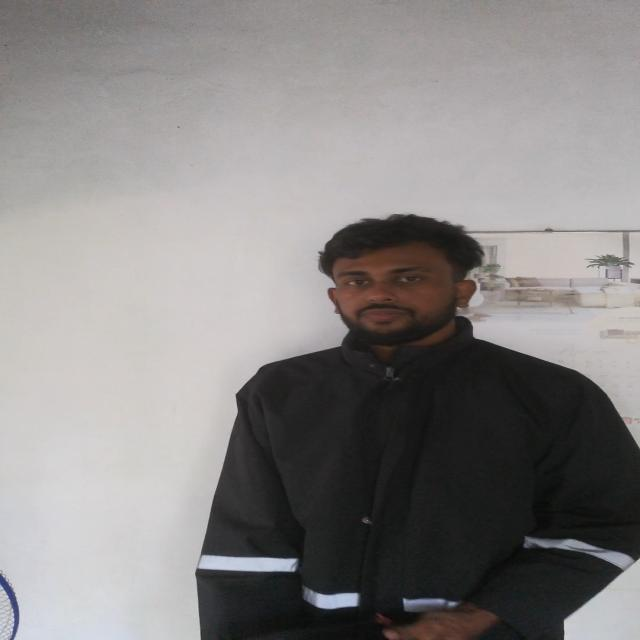Jacket_Wearer: (160, 307, 640, 640)
Person: (200, 216, 640, 640)
